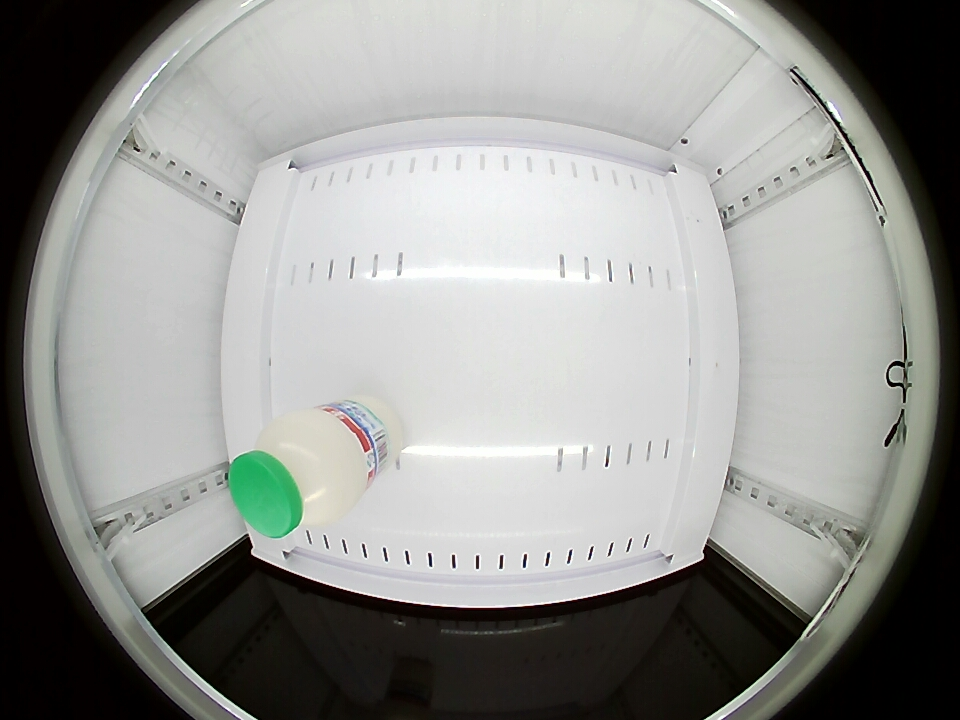liziyuan: (229, 407, 371, 538)
